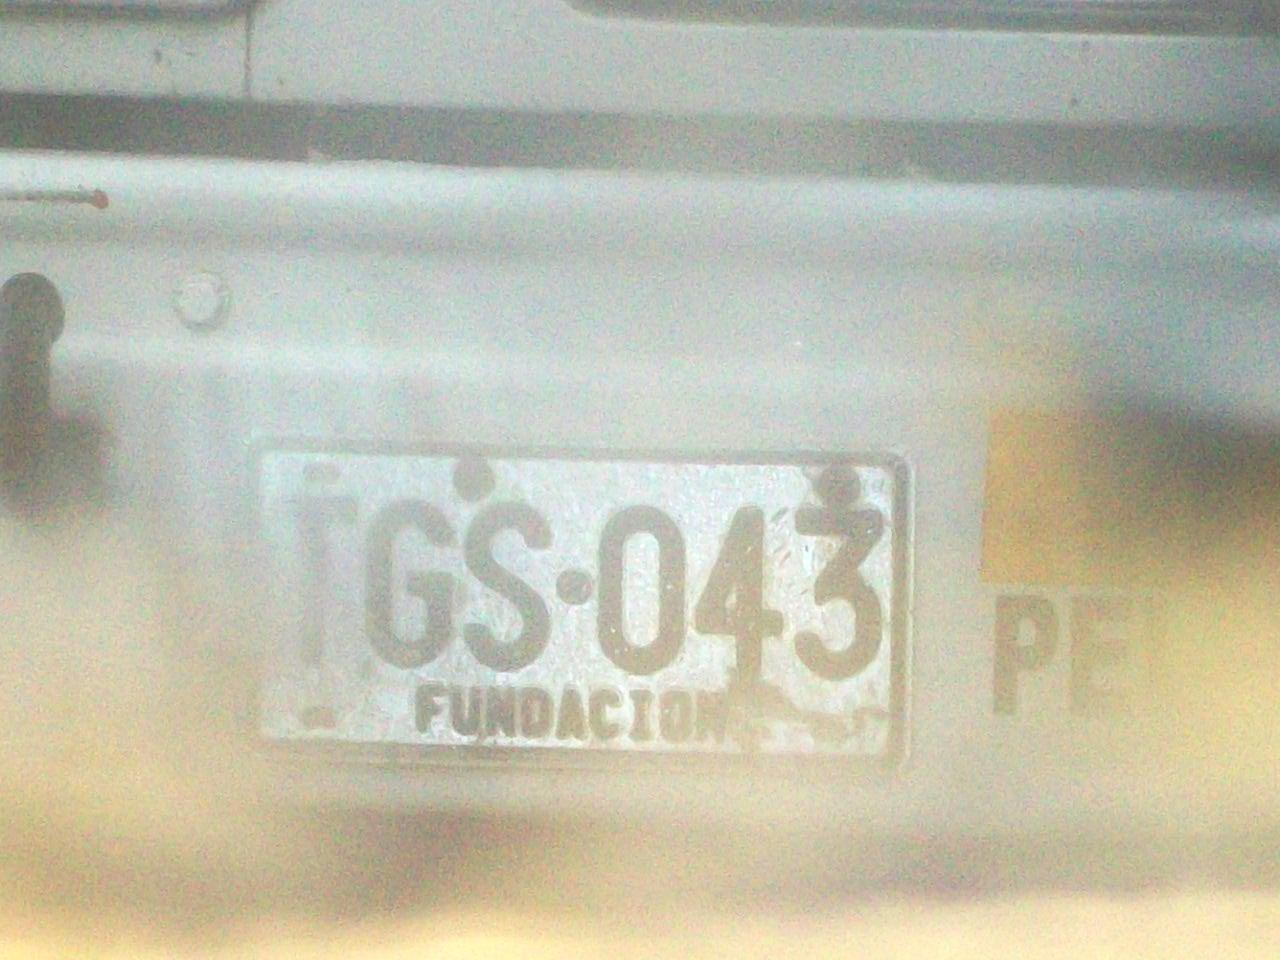placas: (231, 428, 921, 776)
